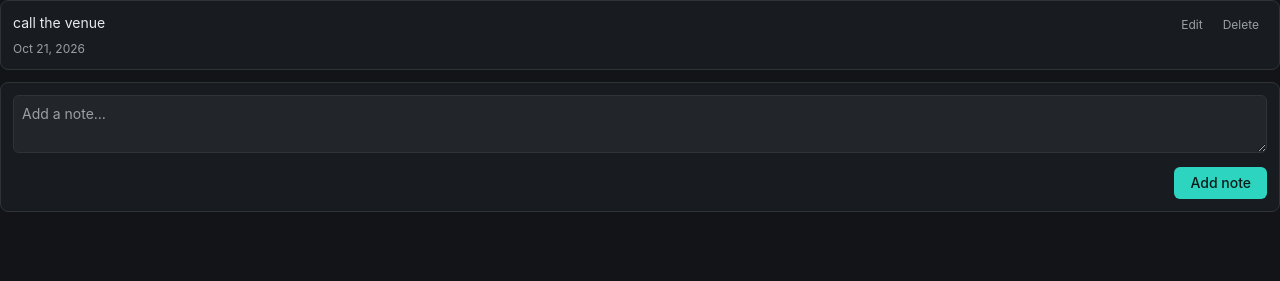
Test case: NoteList › cancelling an edit restores the note
Click the button "Edit" at coordinates (1192, 25), box [1173,13,1211,37]
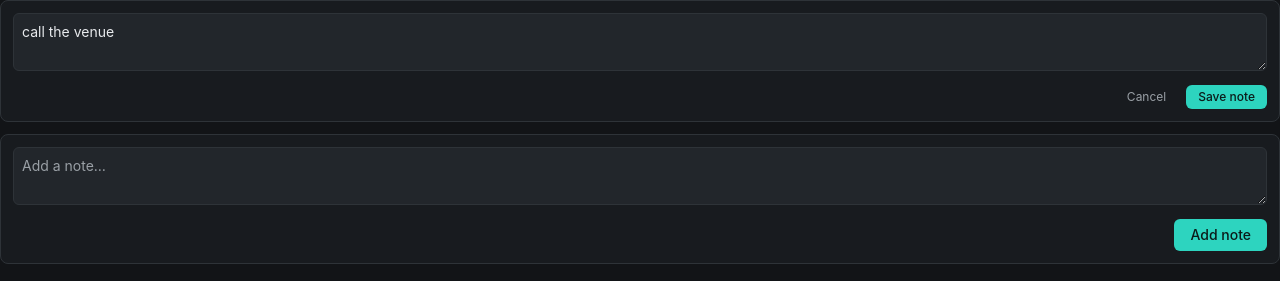
Replace the text in the text box named "Save note" with "call the venue and confirm chairs" at coordinates (640, 42), box [13,13,1267,71]
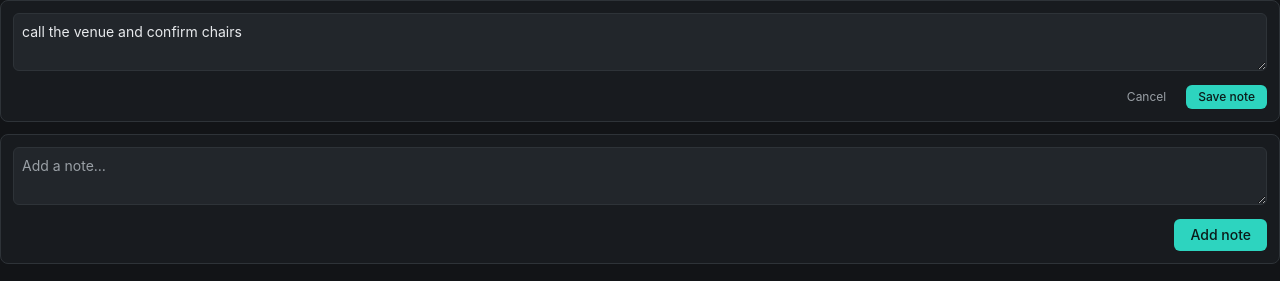
Click the button "Cancel" at coordinates (1147, 97), box [1115,85,1178,109]
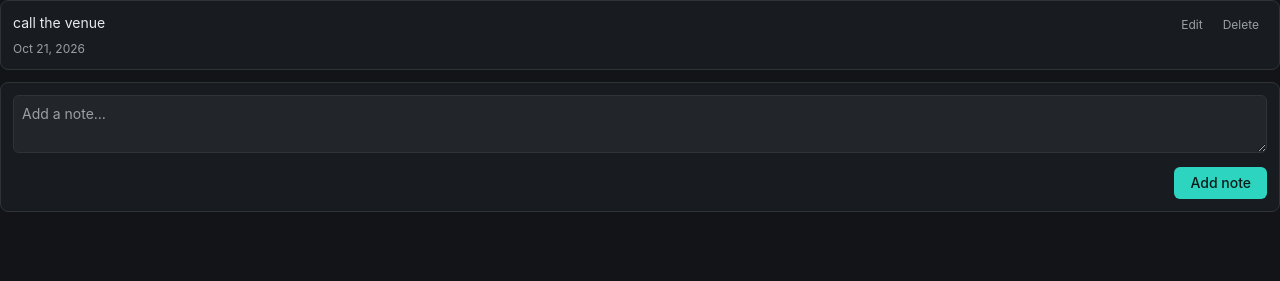
Now the text "call the venue" is shown, box [13,13,105,33]
